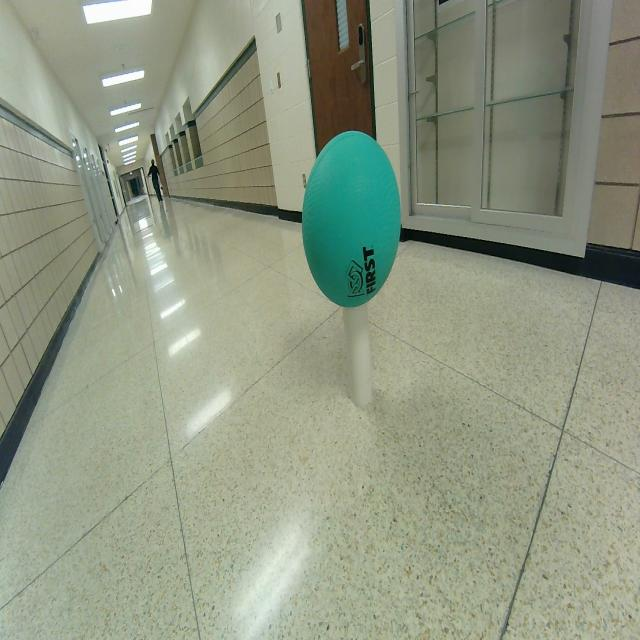algae: (302, 131, 401, 307)
coral: (342, 303, 373, 411)
